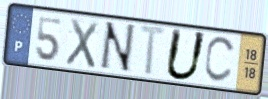5: (33, 14, 64, 63)
C: (202, 35, 238, 86)
N: (97, 20, 137, 75)
T: (137, 23, 170, 79)
U: (162, 26, 209, 83)
X: (63, 15, 100, 71)
